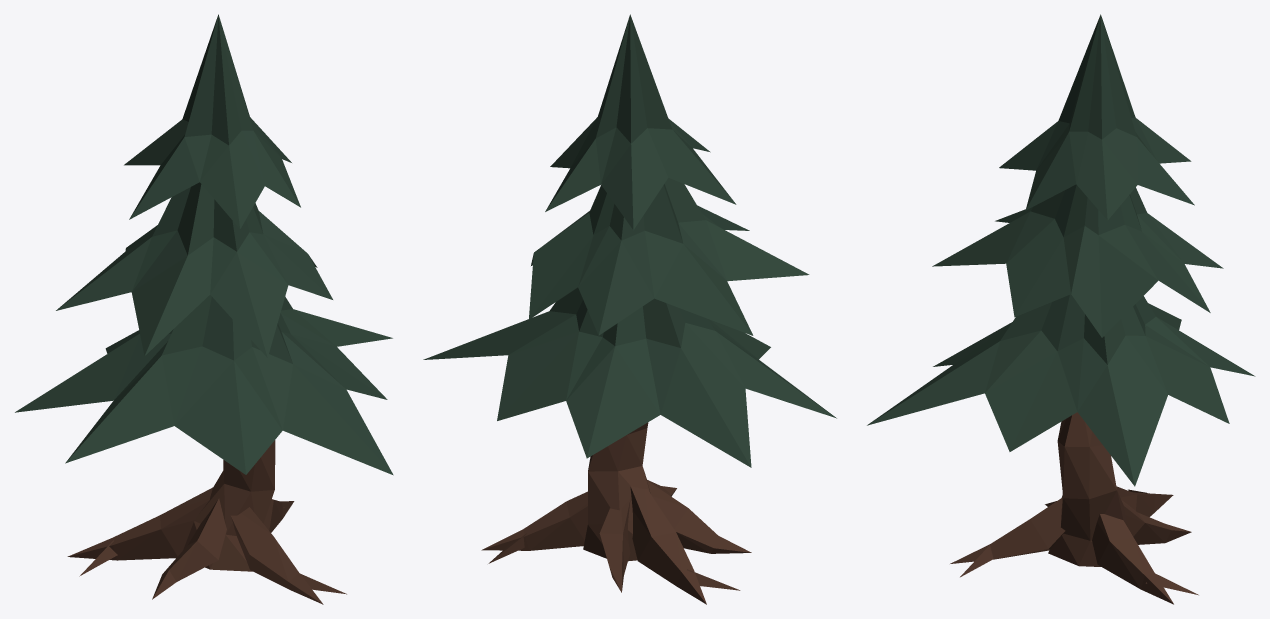
Rendered from FK_Evergreen.fbx.
3 renders of one model, left to right at view 1: azimuth 30°, elevation 25°; view 2: azimuth 150°, elevation 25°; view 3: azimuth 270°, elevation 25°, orthographic.
Parts seen in each view (by area): view 1: FK_Evergreen_Canopy, FK_Evergreen_Trunk; view 2: FK_Evergreen_Canopy, FK_Evergreen_Trunk; view 3: FK_Evergreen_Canopy, FK_Evergreen_Trunk.
Part boxes in pixels (box(x1,y1,x2,y2)): FK_Evergreen_Canopy: box(15, 14, 393, 475); FK_Evergreen_Trunk: box(67, 440, 346, 604); FK_Evergreen_Canopy: box(423, 14, 836, 467); FK_Evergreen_Trunk: box(481, 422, 751, 604); FK_Evergreen_Canopy: box(867, 14, 1255, 486); FK_Evergreen_Trunk: box(950, 412, 1198, 604).
Bounding box in the file's own units: 21.67 × 30 × 19.76.
